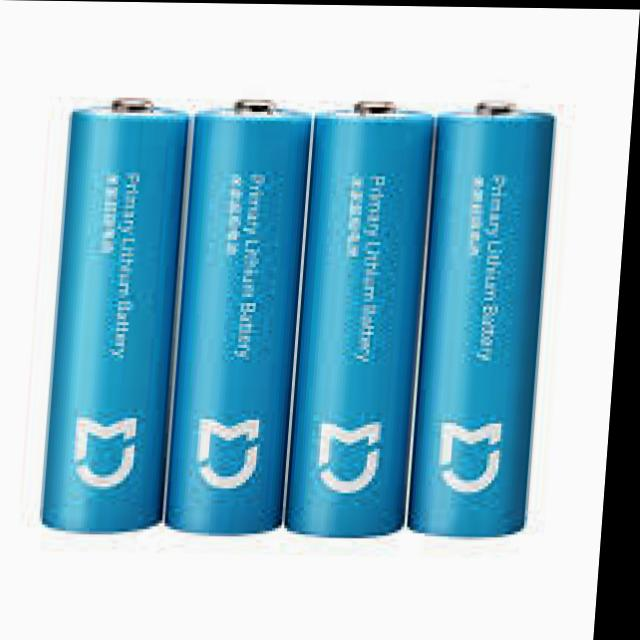B3: (8, 83, 622, 576)
